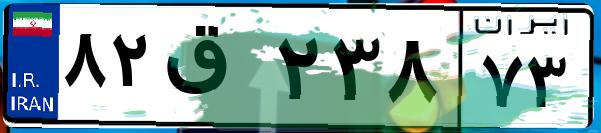2: (270, 28, 330, 110), (110, 28, 158, 98)
3: (330, 28, 385, 110), (525, 38, 570, 115)
7: (475, 38, 525, 113)
8: (385, 28, 445, 110), (57, 26, 110, 100)
ق: (158, 20, 270, 120)
